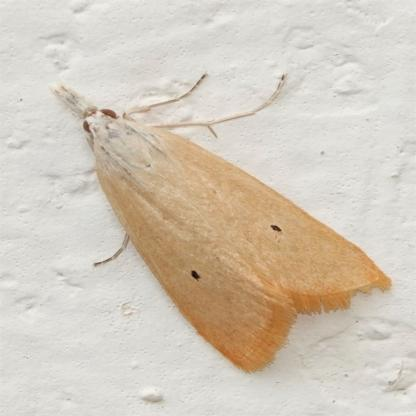stem-borer: (44, 73, 394, 376)
